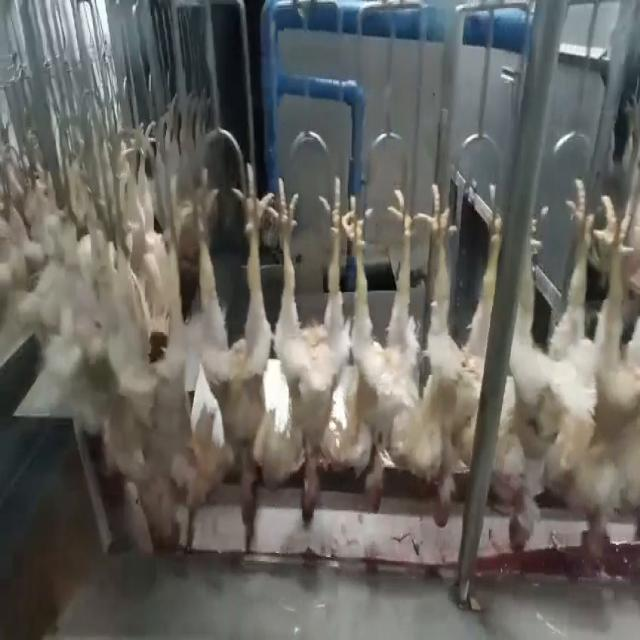chicken: (496, 165, 595, 562), (417, 164, 507, 532), (180, 157, 272, 516), (340, 175, 432, 518), (269, 163, 350, 531), (112, 164, 176, 539), (582, 186, 640, 561)
